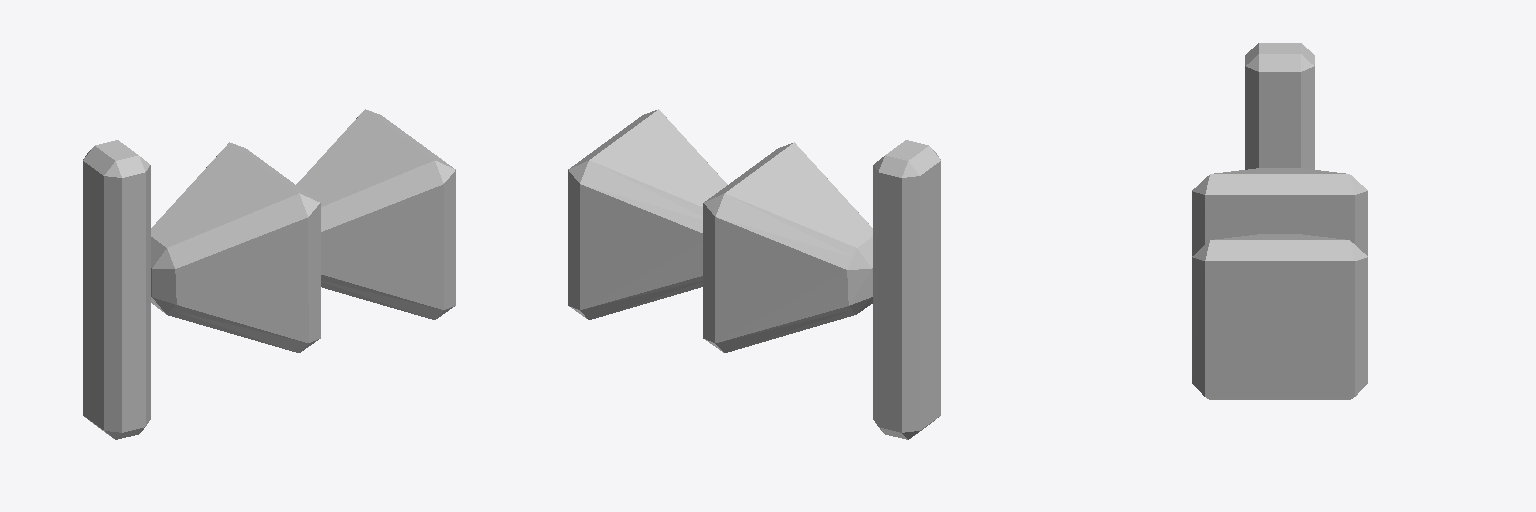
File: pasar 1.obj
3 renders of one model, left to right at view 1: azimuth 30°, elevation 25°; view 2: azimuth 150°, elevation 25°; view 3: azimuth 270°, elevation 25°, orthographic.
Visible parts, largest first — view 1: pCube5; view 2: pCube5; view 3: pCube5.
Part boxes in pixels (bbox=[...]): pCube5: bbox=[83, 109, 455, 439]; pCube5: bbox=[568, 109, 940, 439]; pCube5: bbox=[1192, 43, 1367, 399].
Size of the model in its own units: 1.53 by 1.25 by 0.7179.